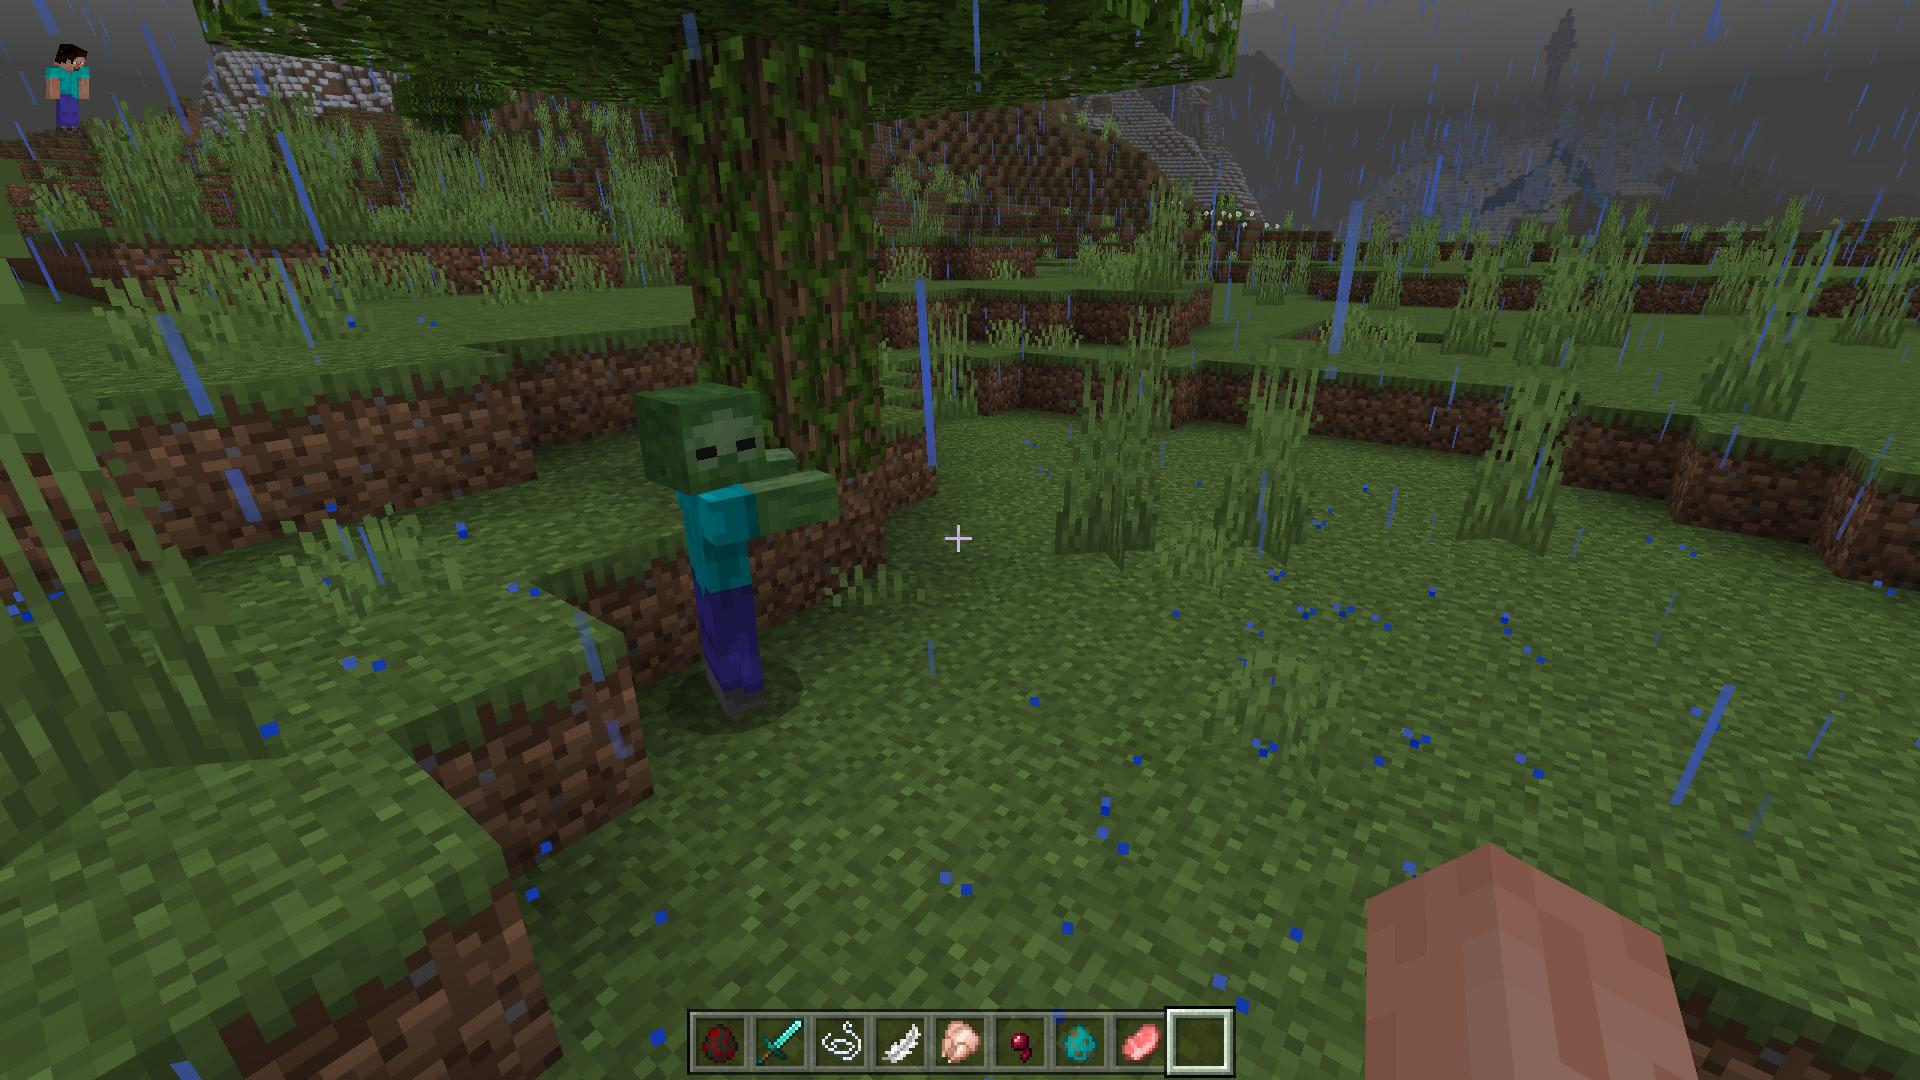zombie: (637, 378, 845, 731)
